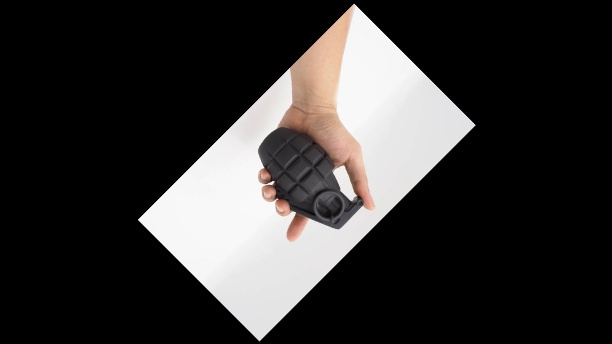e1: (257, 124, 366, 236)
